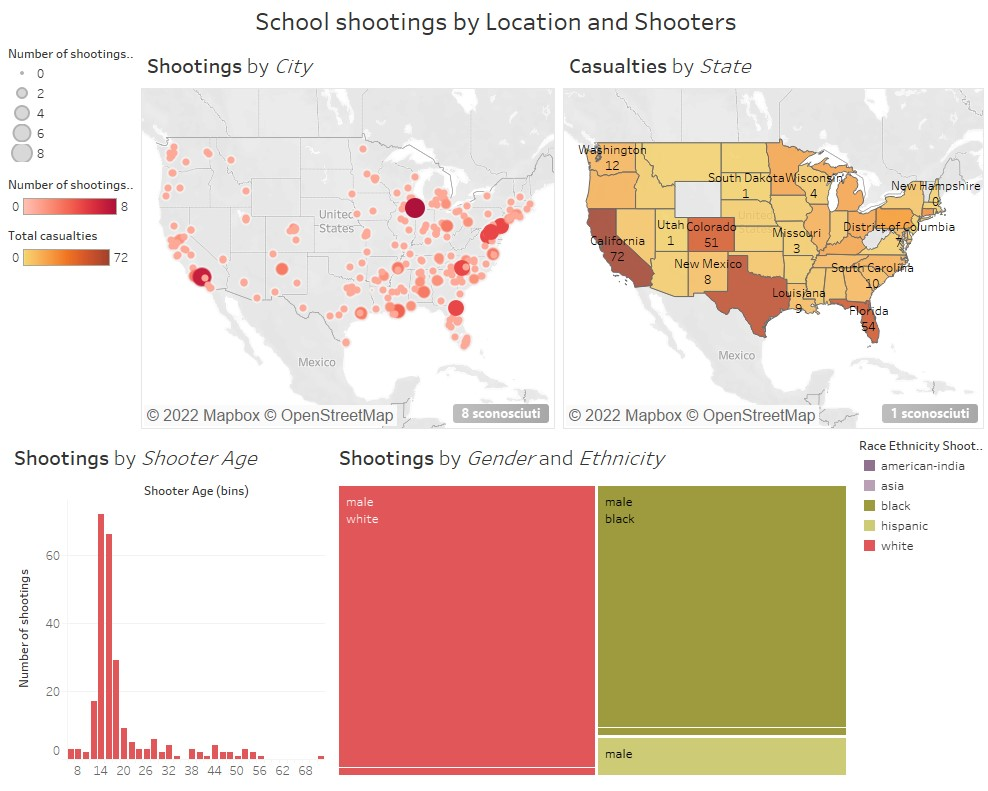

The dashboard page shown, as its layout file describes it:
{"tool":"tableau","page":{"name":"Dashboard 2","canvas":[1000,800],"ordinal":1},"visuals":[{"type":"title","box":[8,8,984,41]},{"type":"legend","title":"Foglio 4","param":"[federated.00n8yx204fzjsb174z7tm0abgyw3].[cnt:uid:qk]","box":[8,49,133,131]},{"type":"worksheet","title":"Foglio 4","mark":"Automatic","box":[141,49,422.3,392.3]},{"type":"worksheet","title":"Foglio 3","mark":"Multipolygon","box":[563.3,49,428.7,392.3]},{"type":"legend","title":"Foglio 4","param":"[federated.00n8yx204fzjsb174z7tm0abgyw3].[cnt:uid:qk]","box":[8,180,133,51]},{"type":"legend","title":"Foglio 3","param":"[federated.00n8yx204fzjsb174z7tm0abgyw3].[sum:casualties:qk]","box":[8,231,133,210.4]},{"type":"worksheet","title":"Foglio 11","mark":"Automatic","rows":["uid"],"cols":["Age Shooter (contenitore)"],"box":[8,441.3,325,350.7]},{"type":"worksheet","title":"Foglio 12","mark":"Automatic","box":[333,441.3,526,350.7]},{"type":"legend","title":"Foglio 12","param":"[federated.00n8yx204fzjsb174z7tm0abgyw3].[none:race_ethnicity_shooter:nk]","box":[859,441.3,133,350.7]}]}

Visuals, with their boxes in screenshot pixels (x1, y1, x2, y2), scaled from the page's 1000x800 canvas onto the 988x791 screenshot:
title: left=8, top=8, right=980, bottom=48
"Foglio 4" legend: left=8, top=48, right=139, bottom=178
"Foglio 4" worksheet: left=139, top=48, right=557, bottom=436
"Foglio 3" worksheet (Multipolygon marks): left=557, top=48, right=980, bottom=436
"Foglio 4" legend: left=8, top=178, right=139, bottom=228
"Foglio 3" legend: left=8, top=228, right=139, bottom=436
"Foglio 11" worksheet: left=8, top=436, right=329, bottom=783
"Foglio 12" worksheet: left=329, top=436, right=849, bottom=783
"Foglio 12" legend: left=849, top=436, right=980, bottom=783
